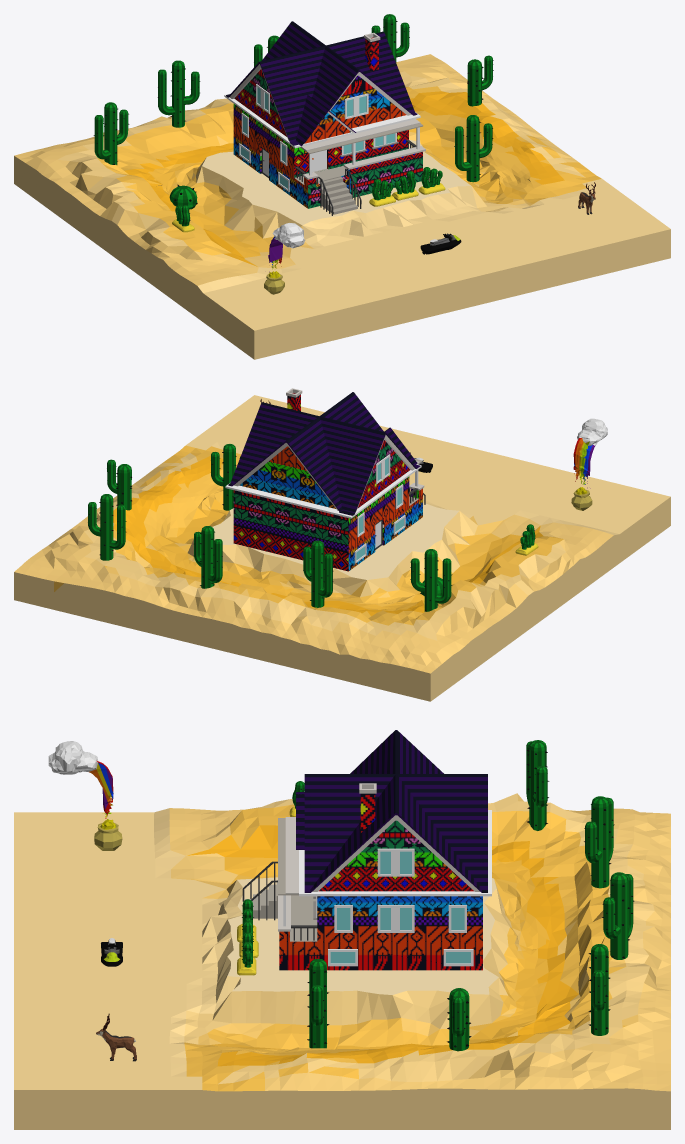
3 renders of one model, top to bottom at view 1: azimuth 30°, elevation 25°; view 2: azimuth 150°, elevation 25°; view 3: azimuth 270°, elevation 25°, orthographic. The views are drawn at different scales.
Visible parts, largest first — view 1: Cube.001, Cube.966, Cylinder.037, Cylinder.044, Cylinder.045, OBJRANDOM_RAINBOW, Cylinder.038, Cylinder.042, Cylinder.039, Cylinder.041, Sphere.023, Cylinder.040; view 2: Cube.001, Cube.966, Cylinder.042, Cylinder.045, OBJRANDOM_RAINBOW, Cylinder.044, Cylinder.043, Cylinder.037, Cylinder.038; view 3: Cube.001, Cube.966, OBJRANDOM_RAINBOW, Cylinder.043, Cylinder.044, Cylinder.045, Cylinder.042, Cylinder.037, Cylinder.038, Cylinder.041, ANIMAL_VENADO.
Part boxes in pixels (x1,y1,x2,y2): Cube.001: (14, 54, 670, 359); Cube.966: (224, 21, 425, 215); Cylinder.037: (454, 115, 493, 182); Cylinder.044: (157, 60, 200, 127); Cylinder.045: (93, 102, 129, 164); OBJRANDOM_RAINBOW: (264, 223, 305, 294); Cylinder.038: (467, 55, 493, 106); Cylinder.042: (371, 14, 409, 62); Cylinder.039: (369, 179, 395, 206); Cylinder.041: (418, 167, 445, 194); Sphere.023: (169, 184, 197, 209); Cylinder.040: (392, 171, 418, 200); Cube.001: (14, 395, 670, 701); Cube.966: (225, 388, 425, 571); Cylinder.042: (88, 494, 126, 560); Cylinder.045: (410, 549, 452, 611); OBJRANDOM_RAINBOW: (571, 418, 607, 510); Cylinder.044: (303, 540, 333, 607); Cylinder.043: (193, 526, 222, 588); Cylinder.037: (211, 444, 240, 510); Cylinder.038: (107, 459, 131, 510); Cube.001: (14, 793, 670, 1129); Cube.966: (242, 730, 491, 970); OBJRANDOM_RAINBOW: (48, 741, 122, 850); Cylinder.043: (602, 872, 634, 959); Cylinder.044: (584, 796, 614, 888); Cylinder.045: (526, 740, 549, 830); Cylinder.042: (588, 944, 610, 1035); Cylinder.037: (307, 959, 329, 1048); Cylinder.038: (447, 988, 471, 1051); Cylinder.041: (237, 932, 256, 975); ANIMAL_VENADO: (96, 1013, 136, 1061).
Bounding box in the file's own units: 4002 × 1728 × 4001.
Materials: 36 (6 with a texture image).
